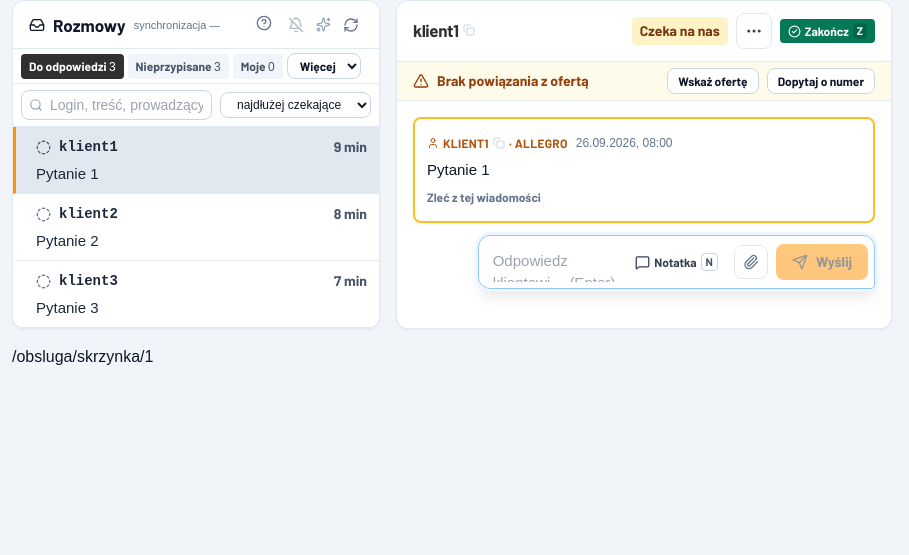
it: EKRAN SKRZYNKI: pętla pracy › niezapisana odpowiedź wraca z rozmową, a notatka nie przechodzi do następnej
Type "Pół odpowiedzi" into the text box named "Szkic odpowiedzi". click: coordinates (556, 262)
box: [493,242,619,282]
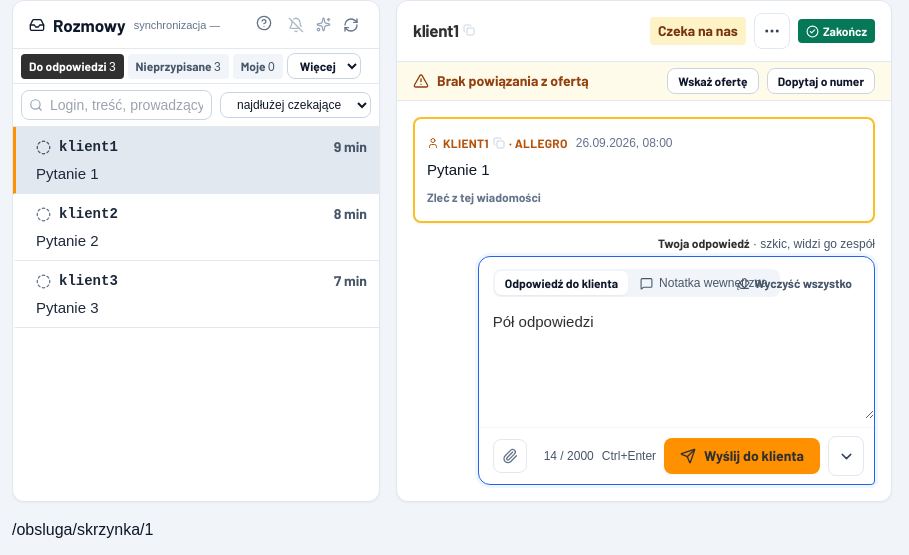
Click the button "Notatka wewnętrzna". click: coordinates (704, 283)
box: [630,271,778,295]
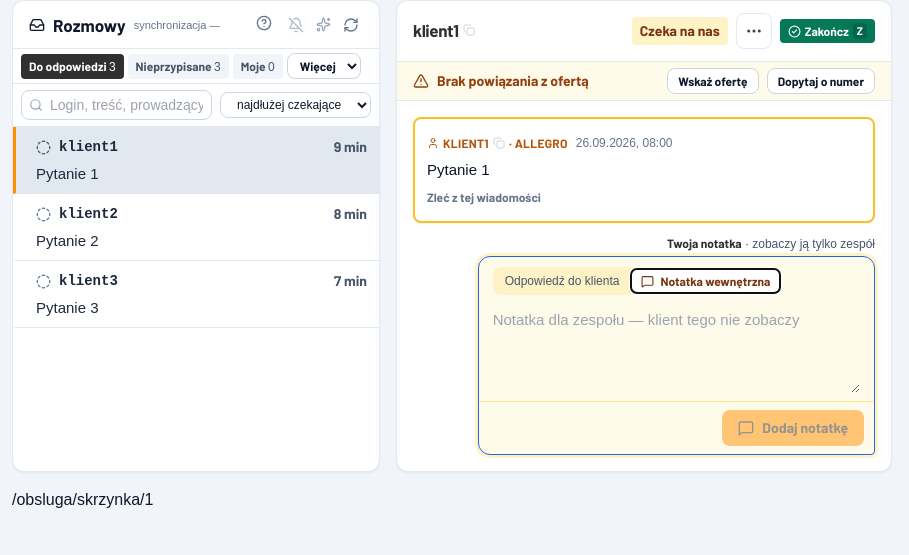
Type "klient trudny" into the text box named "Notatka wewnętrzna". click: coordinates (676, 349)
box: [493,305,860,393]
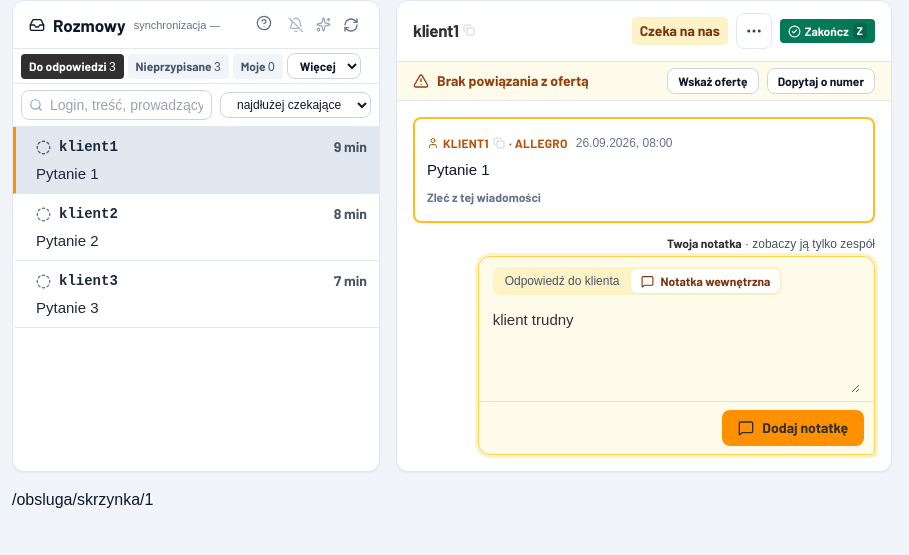
Type keys "j"
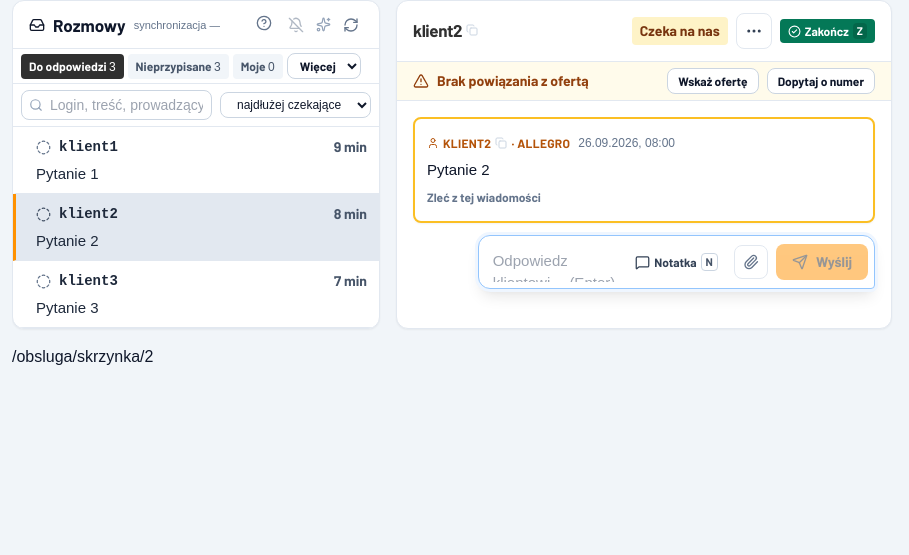
Now the text named "adres" reads "/obsluga/skrzynka/2", box [12,348,153,365]
Now the text box named "Szkic odpowiedzi" is empty, box [493,242,619,282]
Click the button with aria-label "Notatka wewnętrzna". click: coordinates (677, 262)
box: [627,242,726,282]
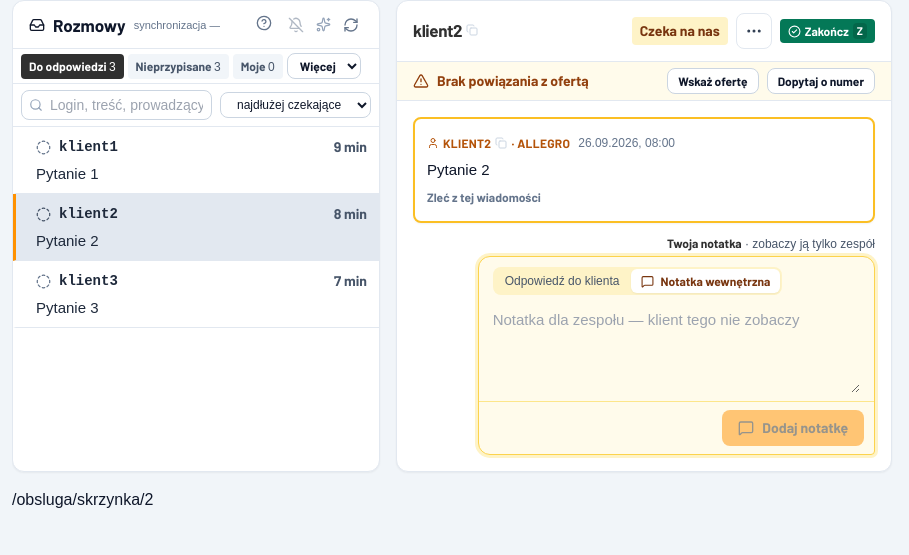
Now the text box named "Notatka wewnętrzna" is empty, box [493,305,860,393]
Type keys "k"
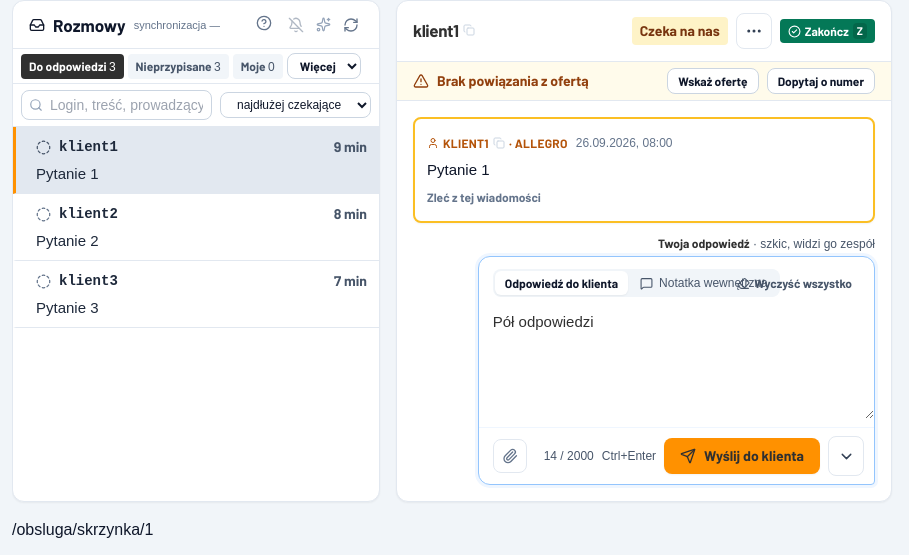
Now the text named "adres" reads "/obsluga/skrzynka/1", box [12,521,153,538]
Now the text box named "Szkic odpowiedzi" holds "Pół odpowiedzi", box [479,299,874,419]
